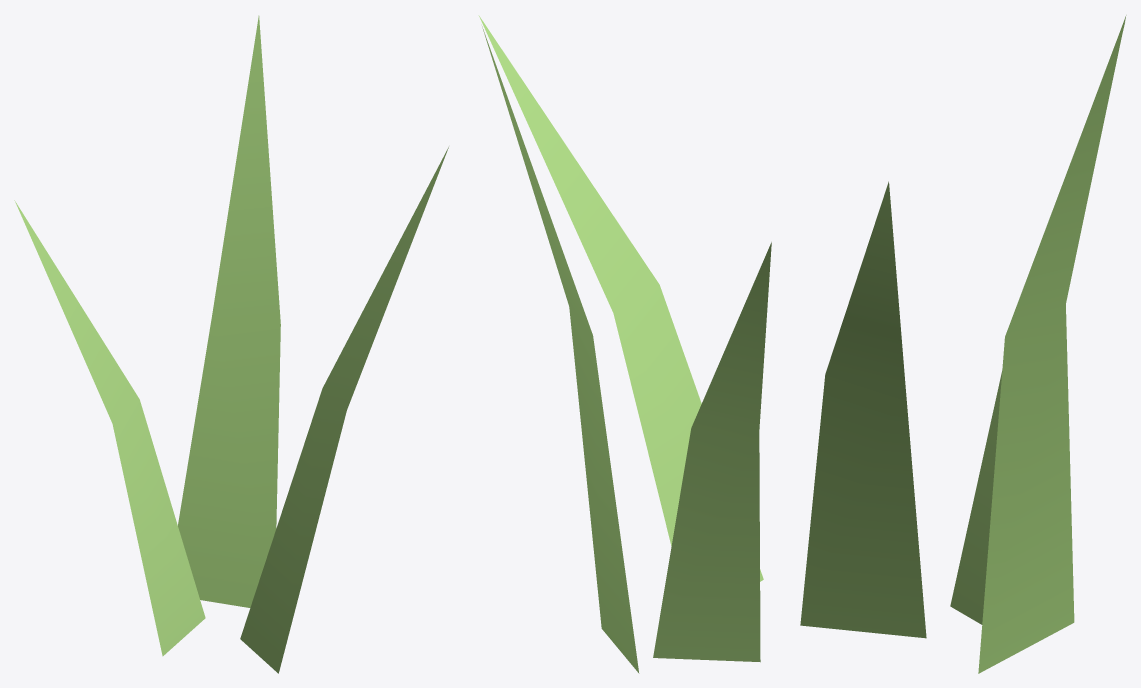
Rendered from Grass_a_OneS_02.fbx.
The picture shows the model from 3 angles, left to right: view 1: azimuth 30°, elevation 25°; view 2: azimuth 150°, elevation 25°; view 3: azimuth 270°, elevation 25°; orthographic projection. The views are drawn at different scales.
Parts seen in each view (by area): view 1: Grass_a_OneS_02; view 2: Grass_a_OneS_02; view 3: Grass_a_OneS_02.
Part boxes in pixels (<box>): Grass_a_OneS_02: <box>14,15,448,673</box>; Grass_a_OneS_02: <box>478,15,771,673</box>; Grass_a_OneS_02: <box>800,15,1126,673</box>.
Bounding box in the file's own units: 37.35 × 57.51 × 24.47.
